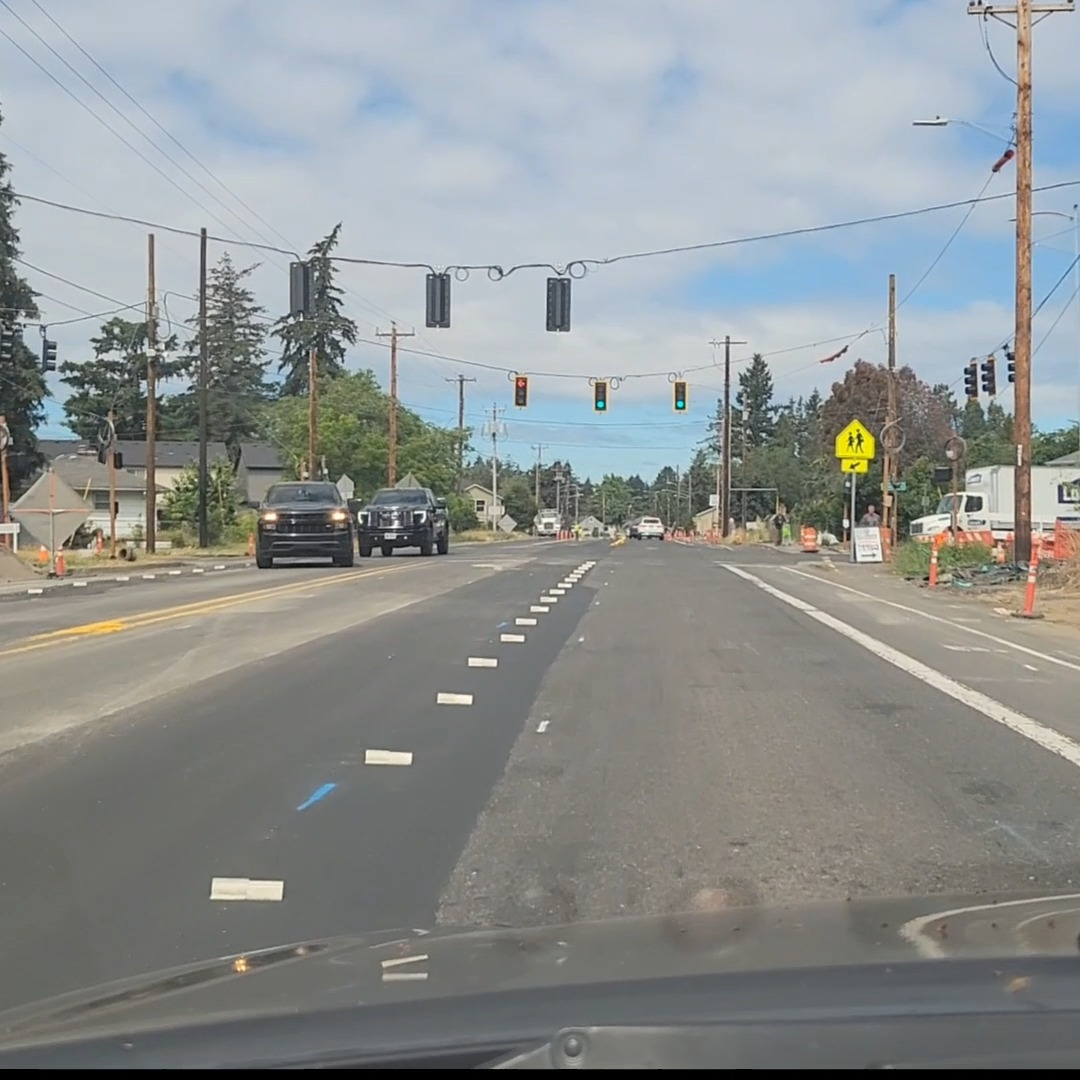car: (253, 481, 356, 567), (354, 487, 451, 558), (629, 515, 665, 540)
crosswalk-sign: (834, 417, 874, 466)
delineator: (926, 532, 941, 586), (52, 547, 68, 580), (95, 525, 106, 560), (90, 527, 105, 551), (37, 545, 48, 564), (247, 531, 255, 555)
